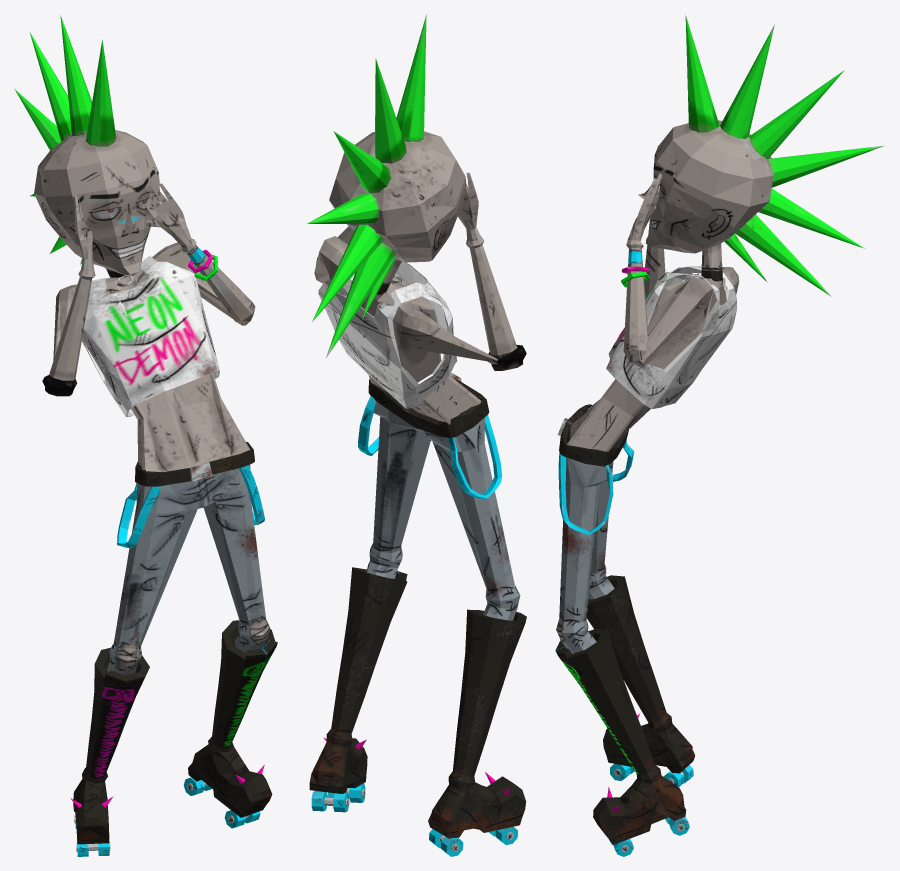
Rendered from punkAnimation_000009.obj.
The picture shows the model from 3 angles, left to right: view 1: azimuth 30°, elevation 25°; view 2: azimuth 150°, elevation 25°; view 3: azimuth 270°, elevation 25°; orthographic projection. The views are drawn at different scales.
Visible parts, largest first — view 1: Cube.004_Cube.003; view 2: Cube.004_Cube.003; view 3: Cube.004_Cube.003.
Part boxes in pixels (x1=…): Cube.004_Cube.003: x1=14, y1=14, x2=277, y2=856; Cube.004_Cube.003: x1=307, y1=14, x2=526, y2=856; Cube.004_Cube.003: x1=555, y1=15, x2=884, y2=856.
Size of the model in its own units: 1.96 by 7.24 by 2.76.
